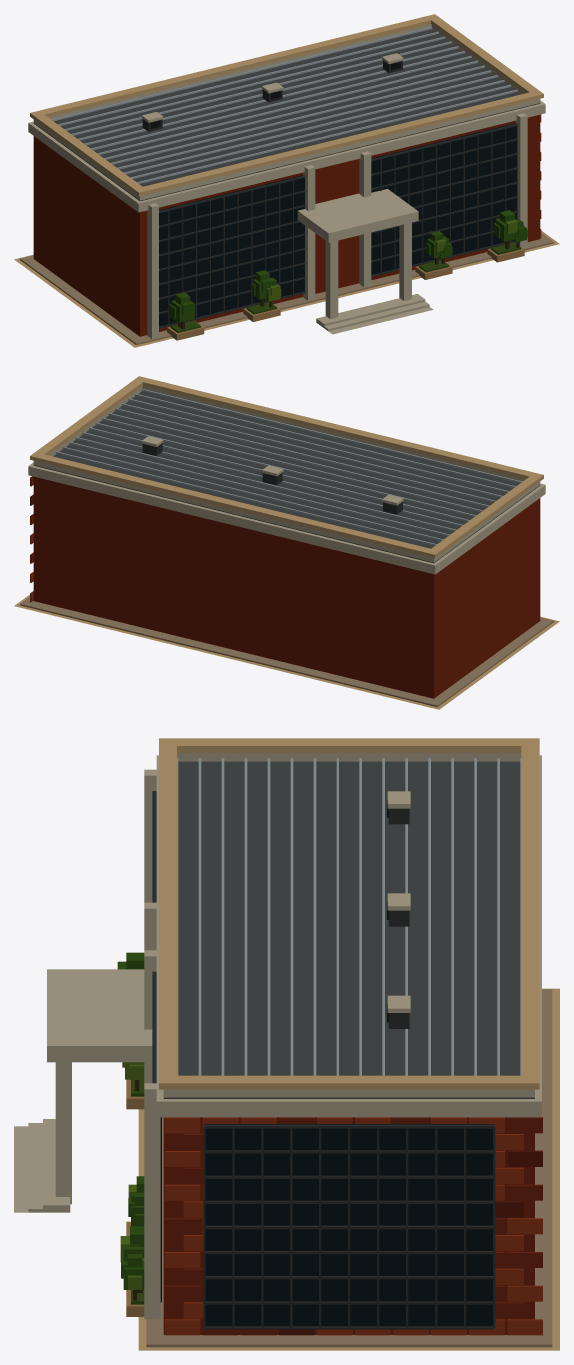
The model's file is SM_Mapa_037.fbx.
3 renders of one model, top to bottom at view 1: azimuth 30°, elevation 25°; view 2: azimuth 150°, elevation 25°; view 3: azimuth 270°, elevation 25°, orthographic. The views are drawn at different scales.
Visible parts, largest first — view 1: SM_Mapa_037; view 2: SM_Mapa_037; view 3: SM_Mapa_037.
Part boxes in pixels (x1,y1,x2,y2): SM_Mapa_037: (14,14,559,347); SM_Mapa_037: (14,376,559,709); SM_Mapa_037: (14,738,559,1350).
Bounding box in the file's own units: 24 × 15.3 × 8.34.
